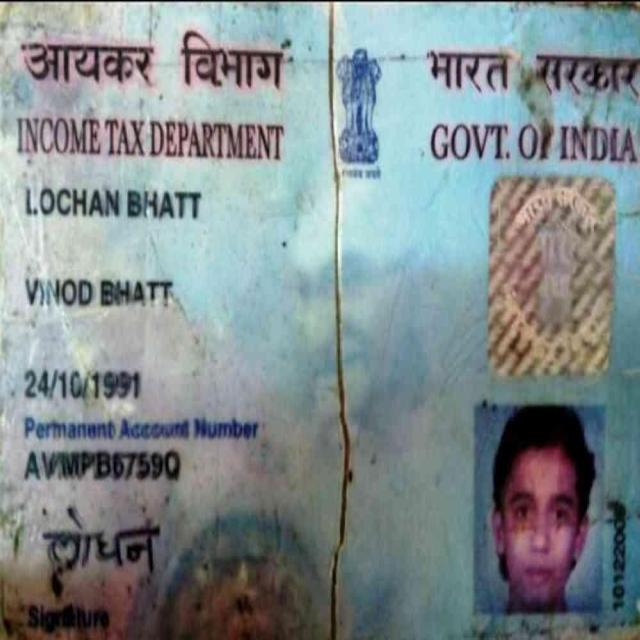pan_card: (1, 5, 640, 632)
